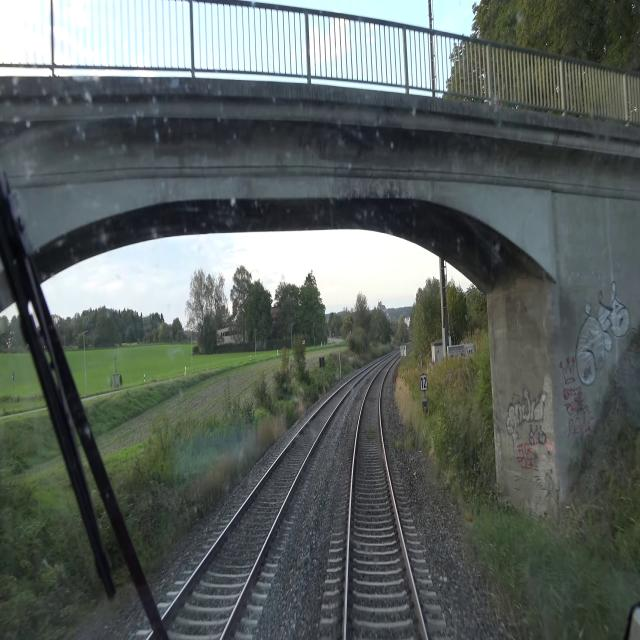rail-track: (178, 380, 354, 639), (348, 368, 424, 639)
